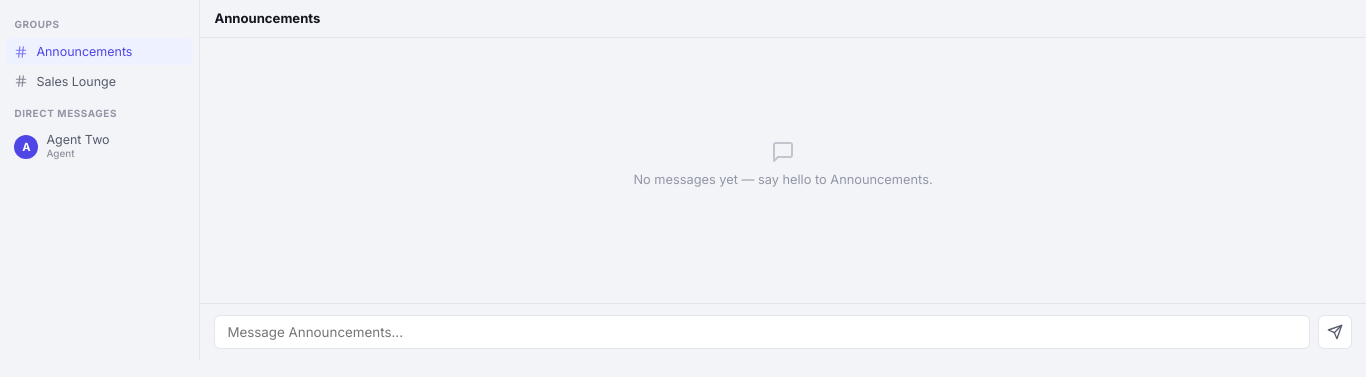
it: ChatWindow sending › shows the server error and keeps the typed text when sending fails
In the field with placeholder "Message Announcements...": (762, 332) [214,315,1310,349], type "hello team"
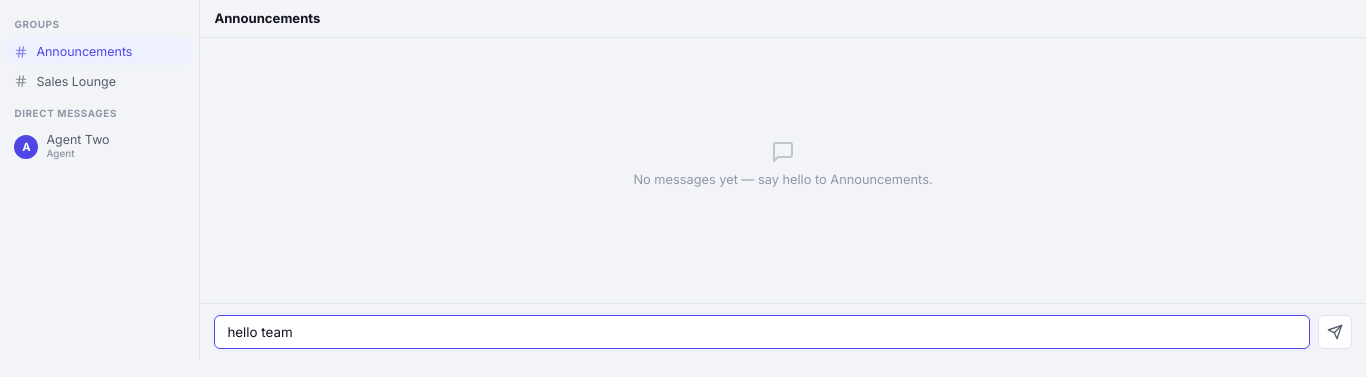
Click the button named "send message": click(1335, 332) [1318,315,1352,349]
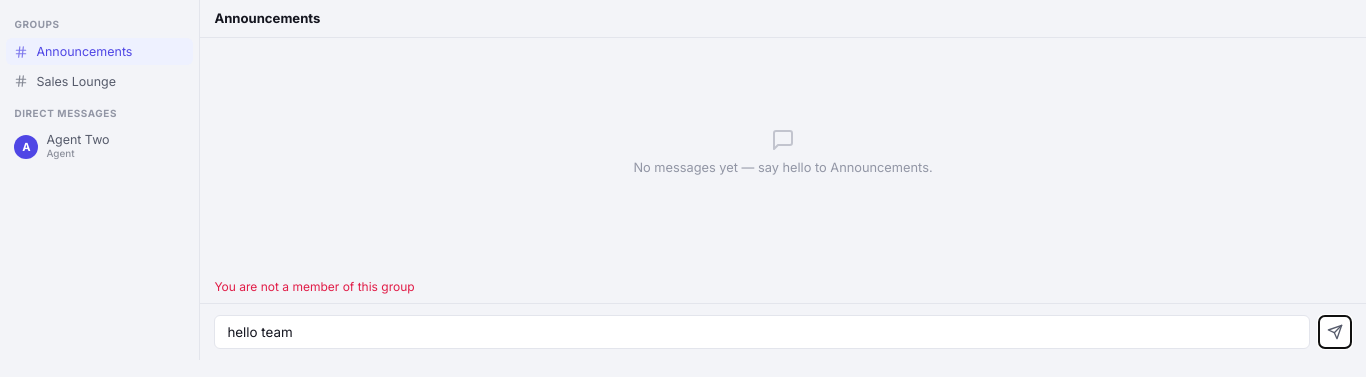
Expected: the text "You are not a member of this group" is shown, [214,279,415,294]
